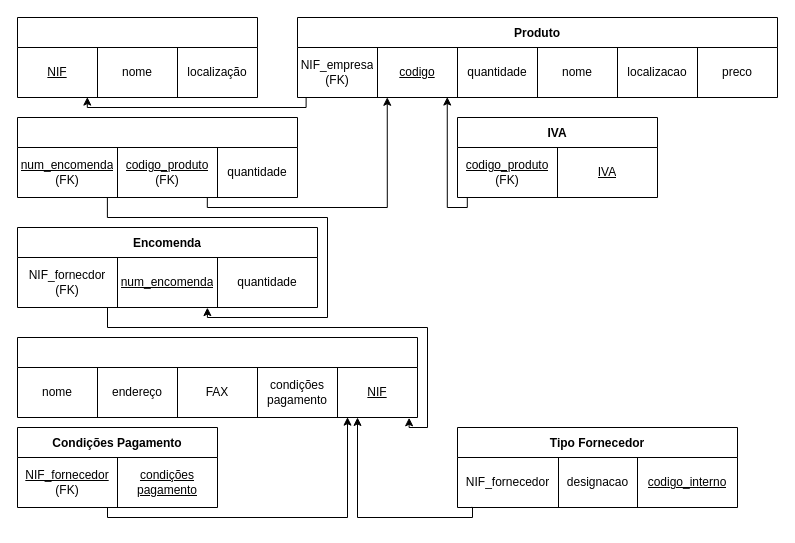
This 795x543 diagram has some shape labels left out. Here are the shapes that lost their labels. From the top down, the box of each, then its label:
(16, 16, 258, 98): Empresa
(16, 116, 298, 198): Contem
(16, 336, 418, 418): Fornecedor
